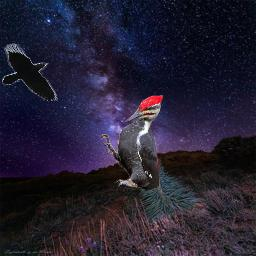Crow: (2, 43, 58, 101)
Woodpecker: (100, 95, 163, 191)
